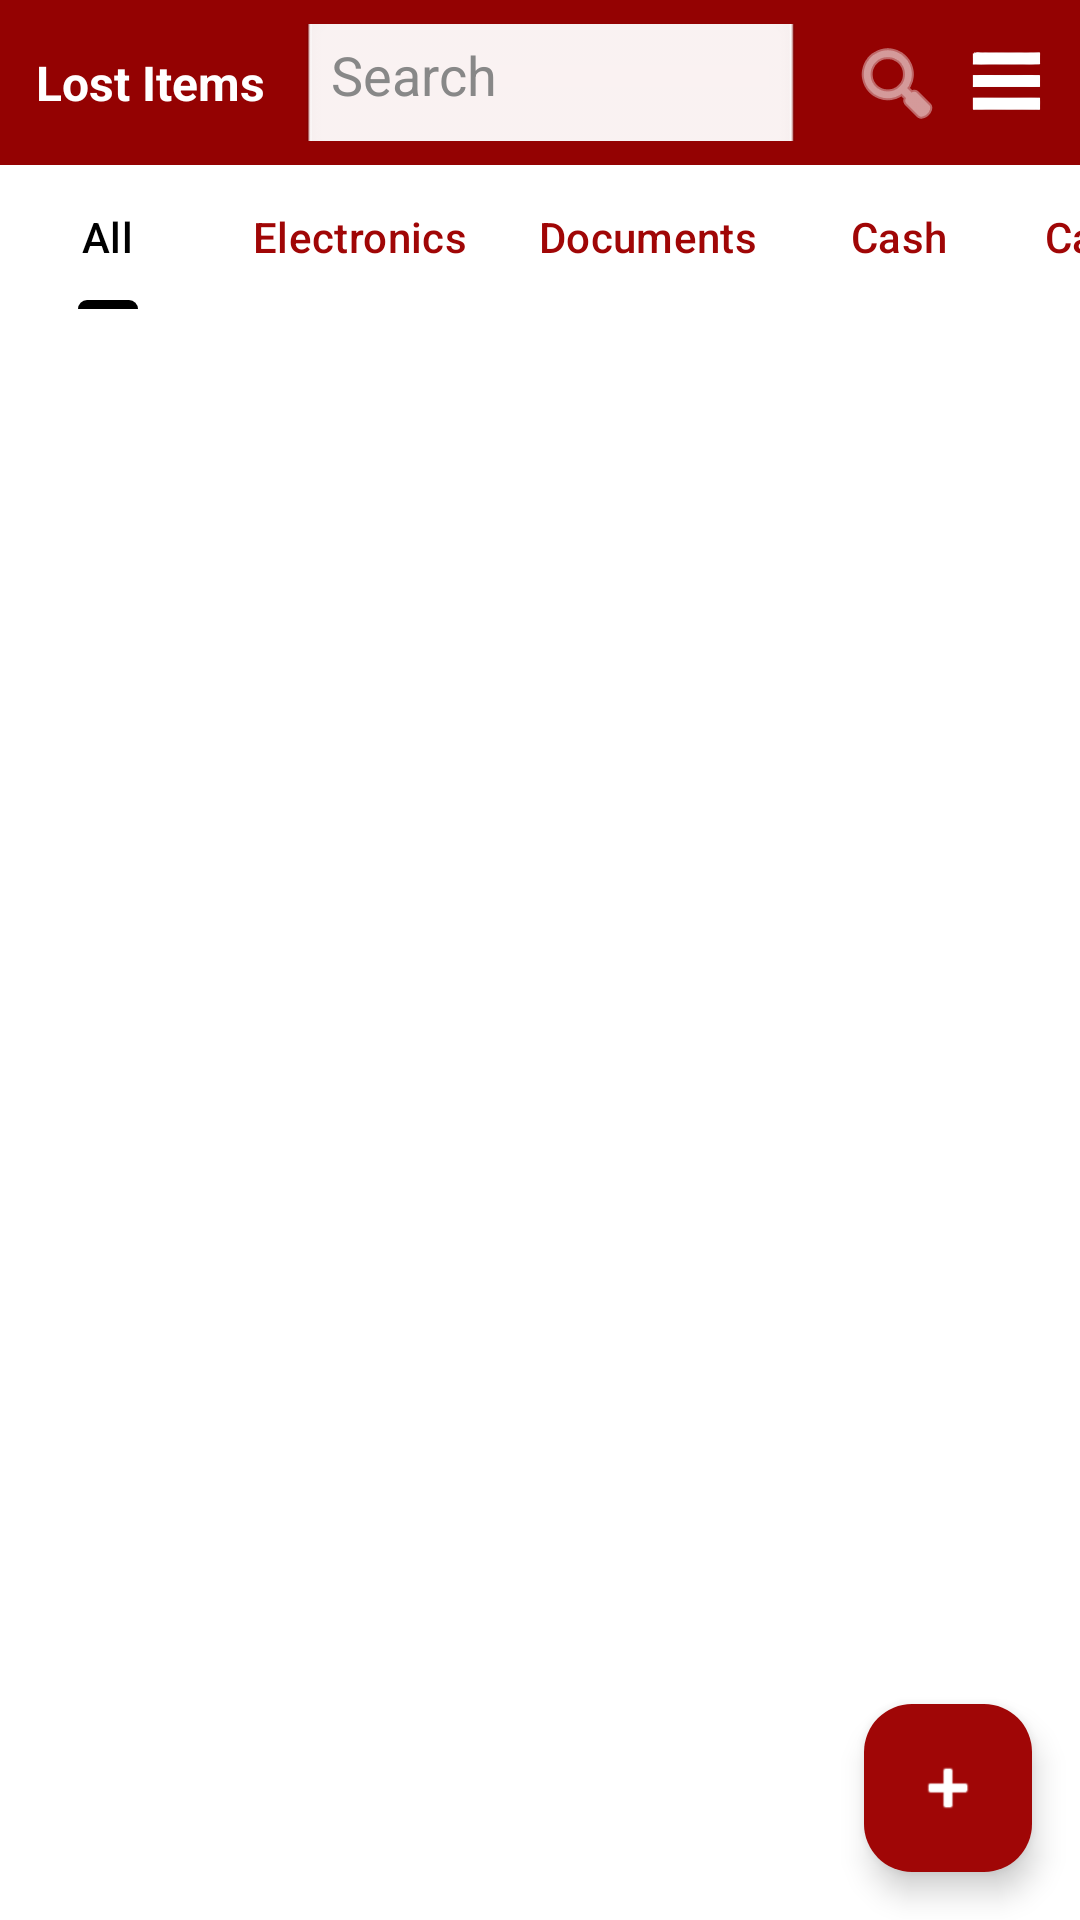

Named icons in this screenshot (1080w x 1920h) and their bounding boxes, {"left": x1, "top": y1, "right": x2, "bottom": y2}:
Add new lost item: {"left": 864, "top": 1704, "right": 1032, "bottom": 1872}
